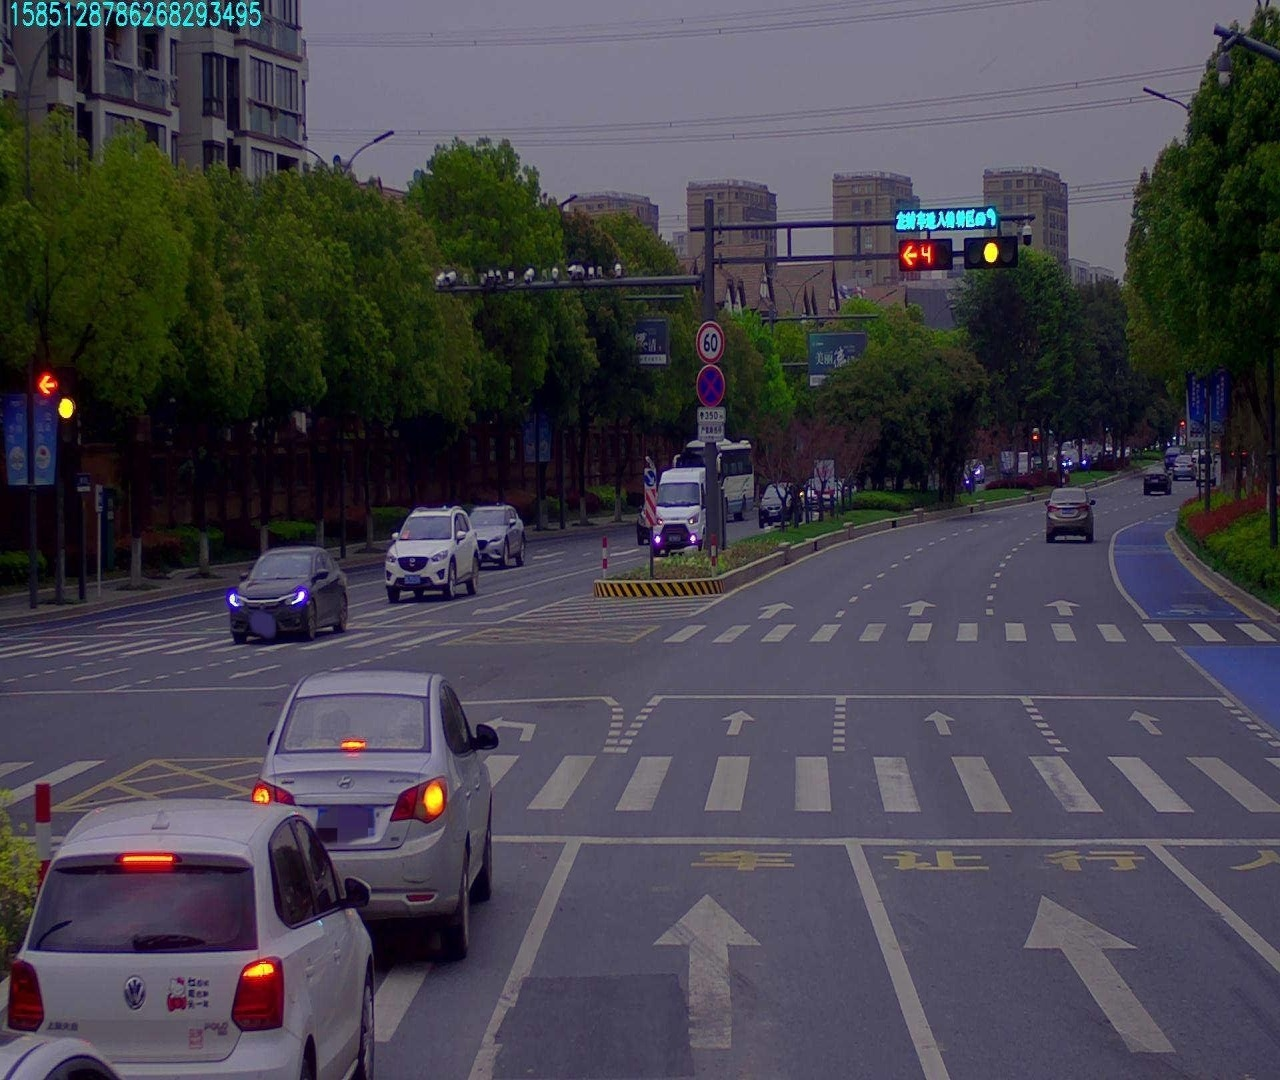red: (895, 240, 952, 277)
yellow: (967, 237, 1020, 266)
